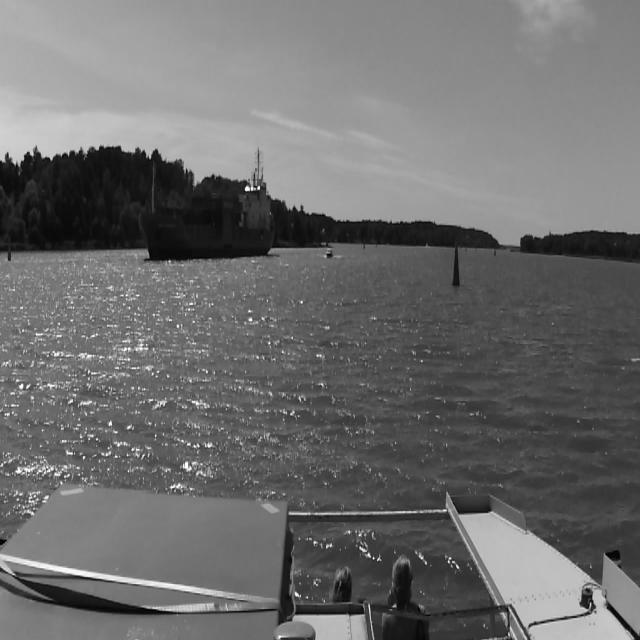buoy: (453, 245, 461, 287)
ship: (140, 145, 272, 259), (326, 249, 334, 256)
